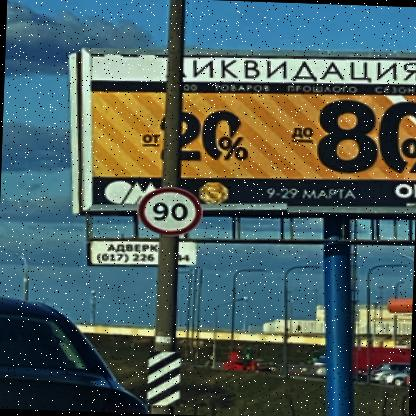speedlimit: (134, 187, 198, 235)
